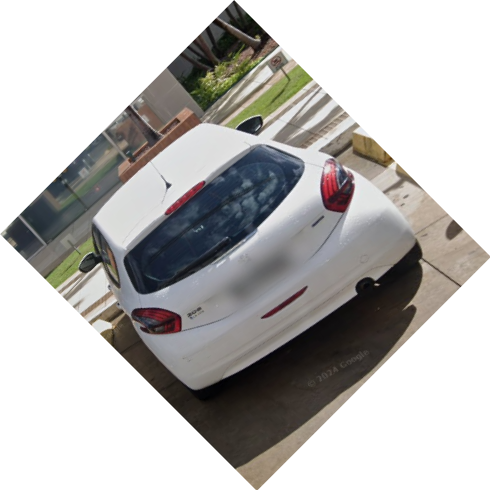car: (83, 118, 419, 394)
